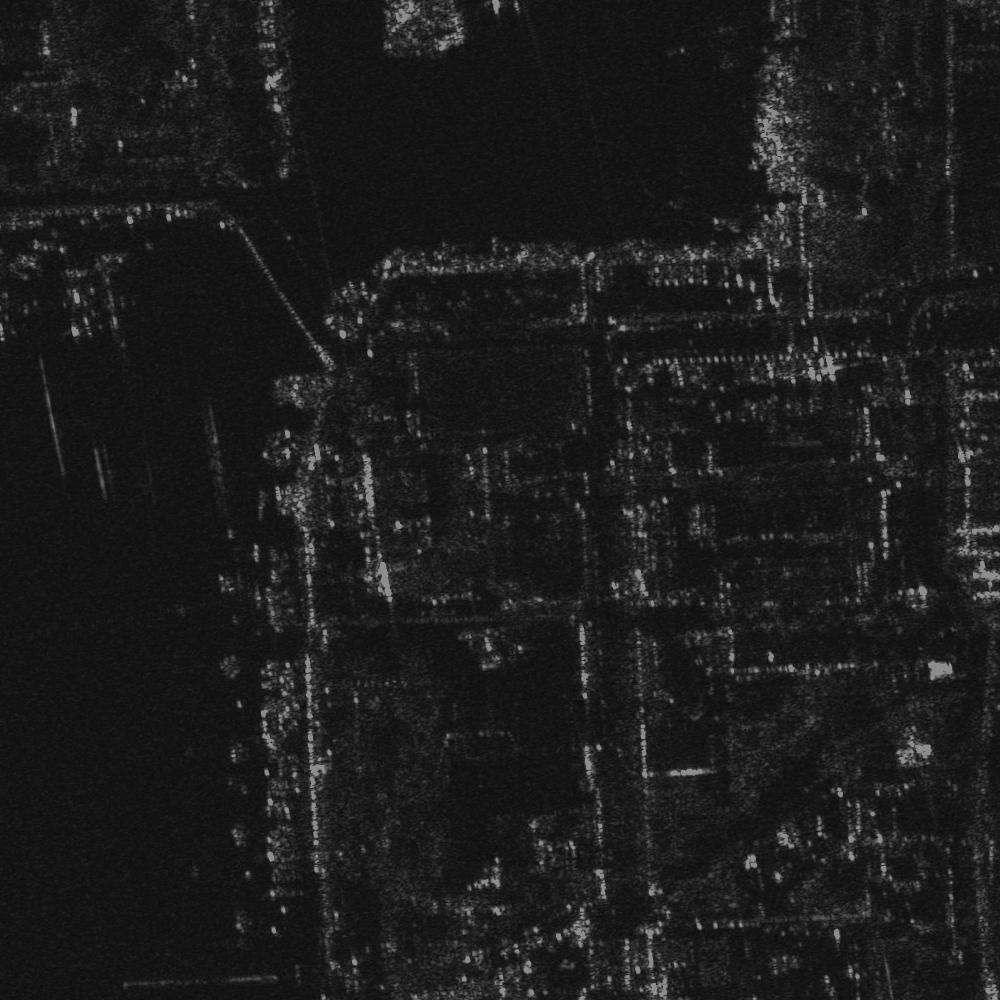Boeing737: (49, 264, 118, 343)
